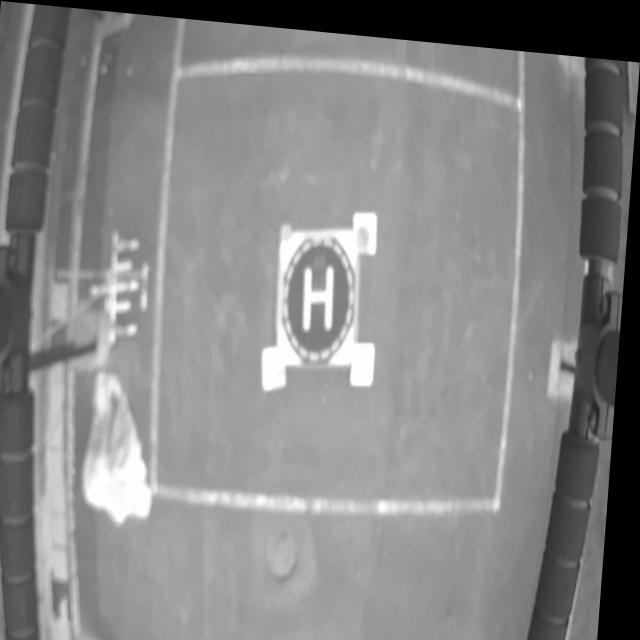Helipad: (305, 259, 337, 325)
